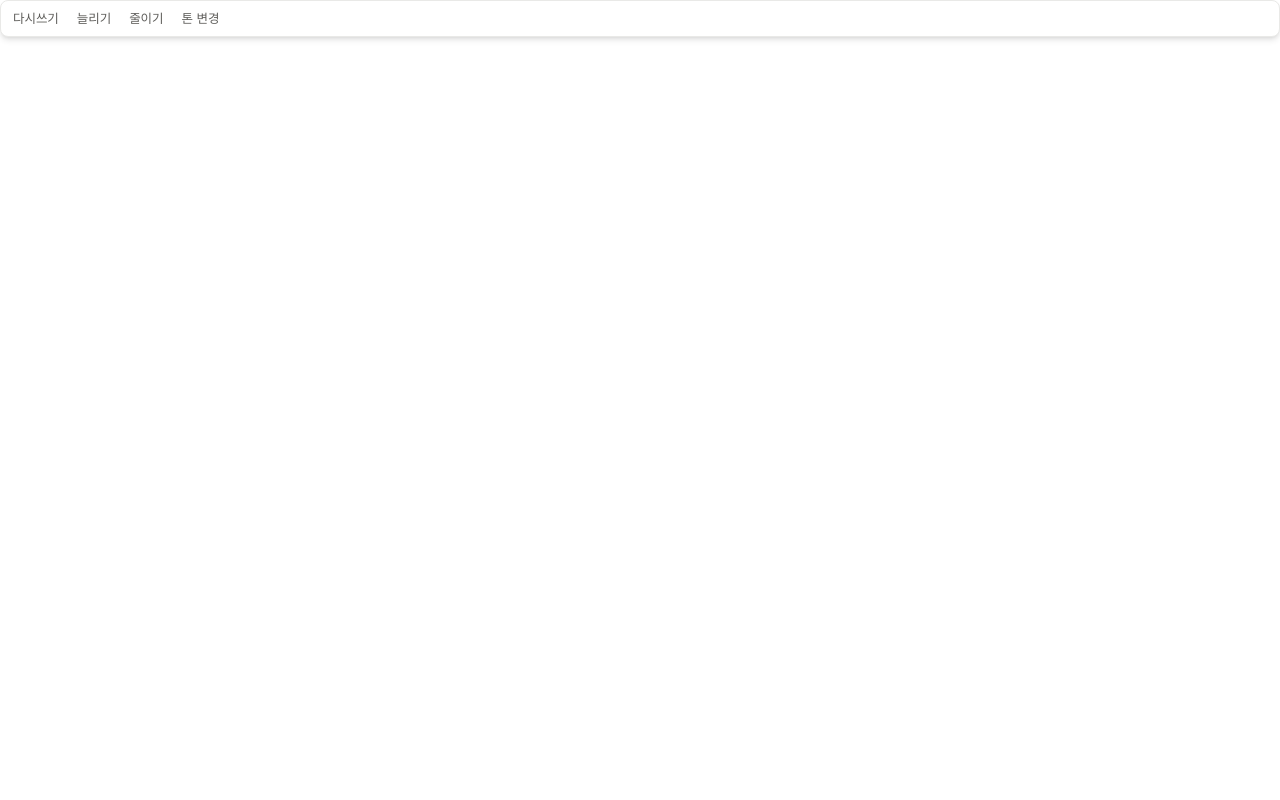
Test: SelectionAiMenu 모달 표시 › 액션을 누르면 모달로 열리고 헤더가 누른 액션을 가리킨다
The image size is (1280, 800).
Click the button "톤 변경". click: (200,18)
box: [174, 5, 227, 32]
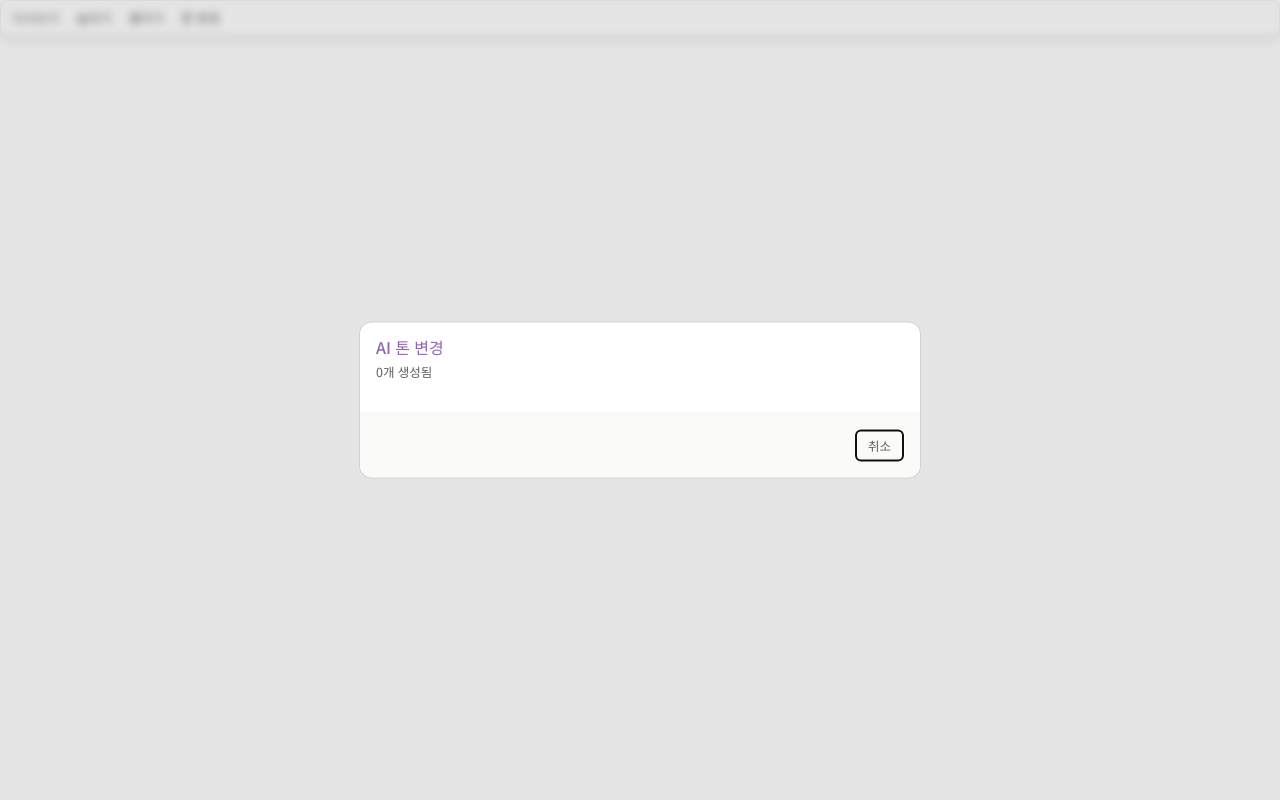
expect the dialog is shown: met, box [360, 323, 920, 477]
expect the heading "AI 톤 변경" is shown: met, box [376, 335, 444, 359]
